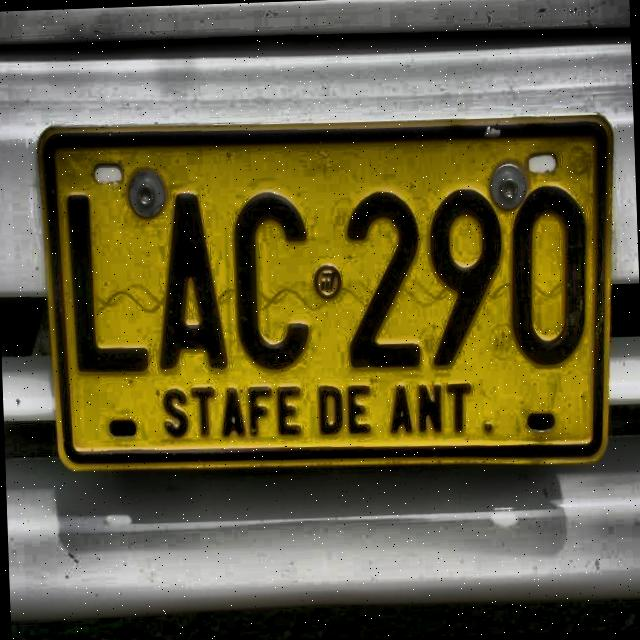0: (505, 182, 592, 377)
2: (342, 184, 427, 378)
9: (424, 182, 509, 377)
A: (152, 181, 244, 383)
C: (223, 184, 314, 374)
L: (65, 191, 154, 382)
